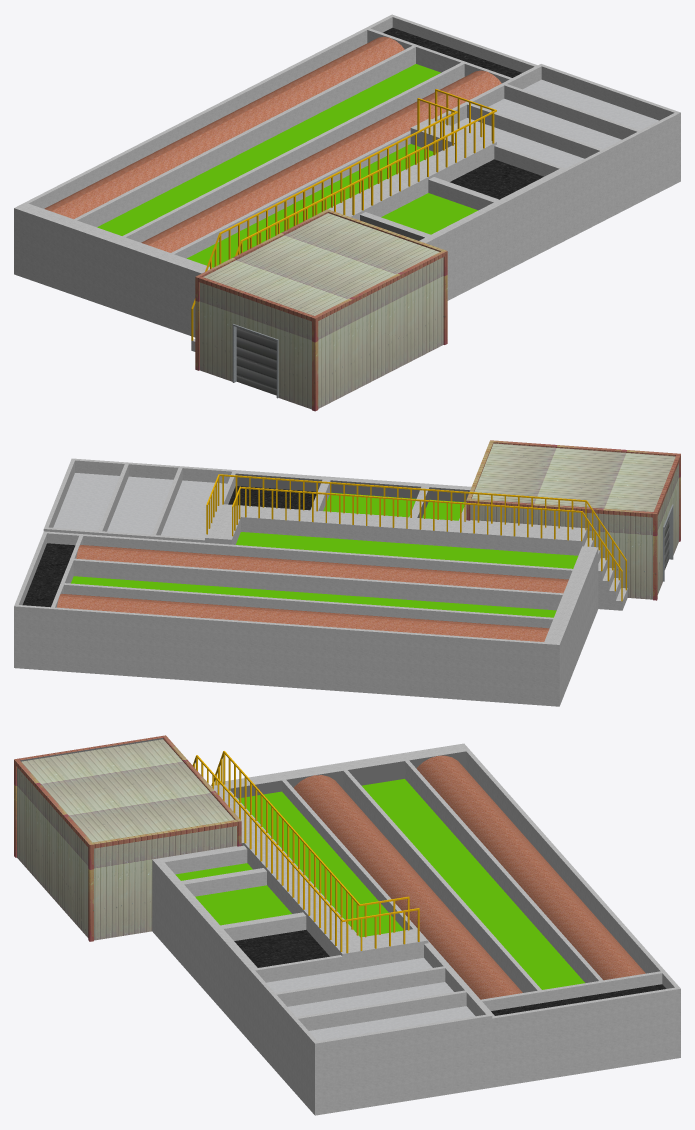
3 views of the same model, one above another, from view 1: azimuth 30°, elevation 25°; view 2: azimuth 150°, elevation 25°; view 3: azimuth 270°, elevation 25° (orthographic). The views are drawn at different scales.
Parts seen in each view (by area): view 1: M棟(修正); view 2: M棟(修正); view 3: M棟(修正).
Part boxes in pixels (left/top/right/bottom): M棟(修正): left=14, top=14, right=680, bottom=411; M棟(修正): left=14, top=440, right=680, bottom=706; M棟(修正): left=14, top=735, right=680, bottom=1115.
Size of the model in its own units: 23.5 by 3.9 by 21.85.
Materials: 11 (8 with a texture image).
